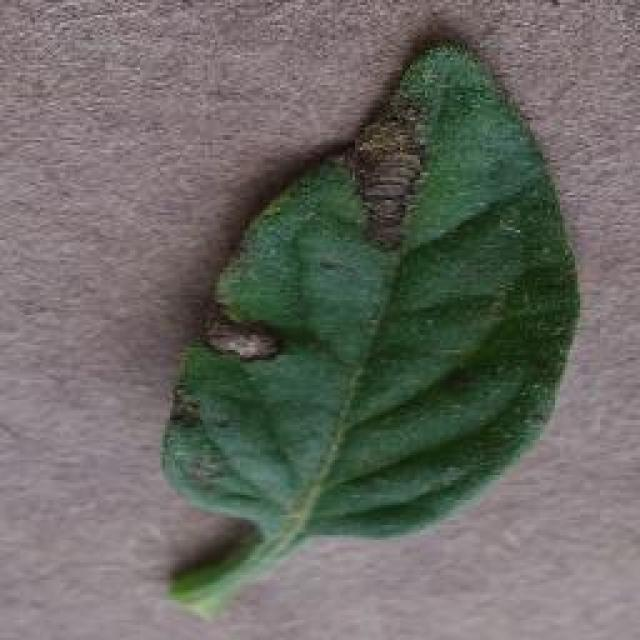Tomato Early blight leaf: (162, 39, 578, 619)
